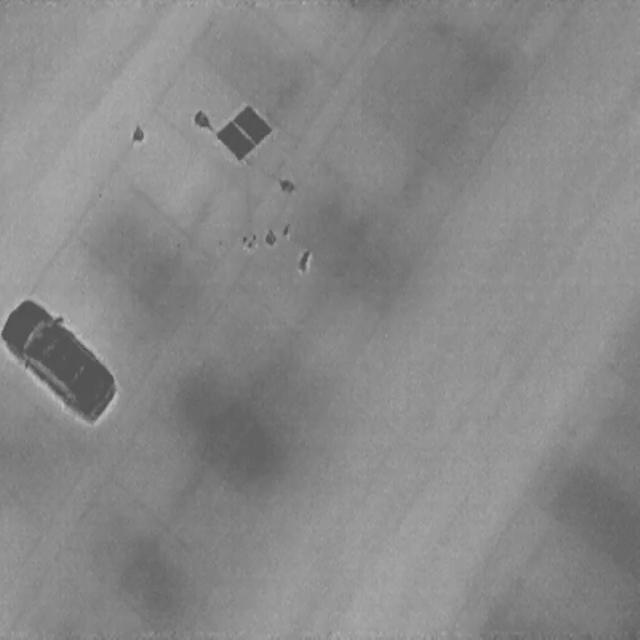Car: (0, 287, 124, 423)
